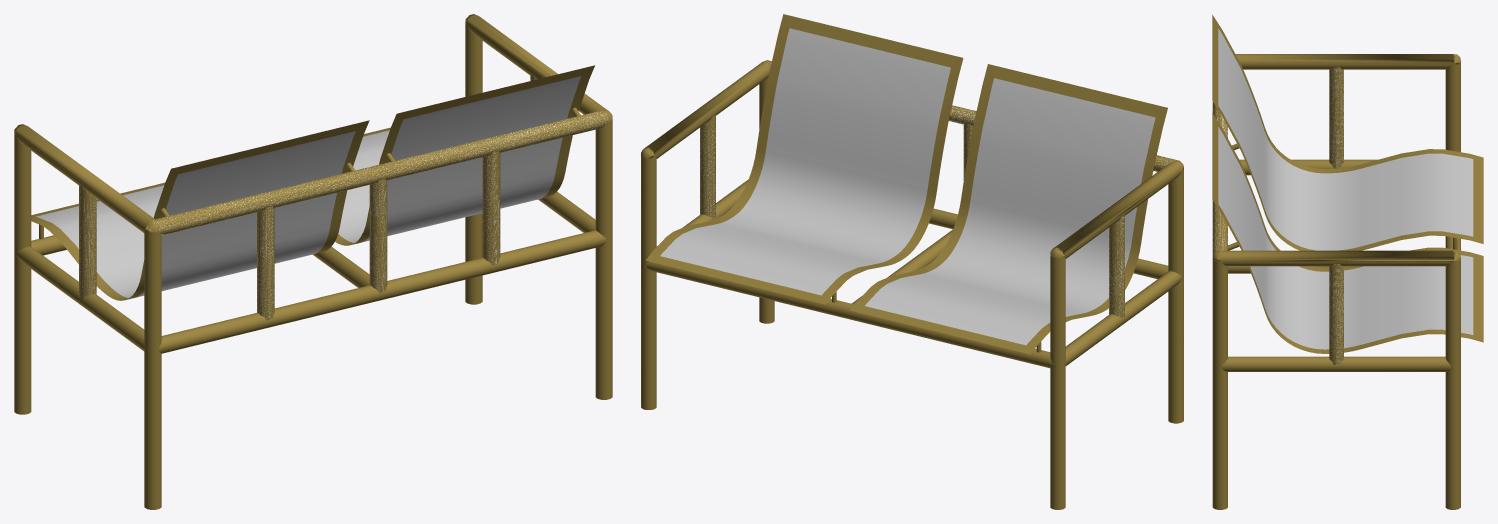
3 renders of one model, left to right at view 1: azimuth 30°, elevation 25°; view 2: azimuth 150°, elevation 25°; view 3: azimuth 270°, elevation 25°, orthographic. The views are drawn at different scales.
Parts seen in each view (by area): view 1: mesh9_mesh9-geometry, mesh1_mesh1-geometry, mesh5_mesh5-geometry, mesh10_mesh10-geometry, mesh6_mesh6-geometry, mesh4_mesh4-geometry, mesh3_mesh3-geometry; view 2: mesh9_mesh9-geometry, mesh1_mesh1-geometry, mesh5_mesh5-geometry, mesh6_mesh6-geometry, mesh4_mesh4-geometry, mesh3_mesh3-geometry, mesh10_mesh10-geometry; view 3: mesh9_mesh9-geometry, mesh1_mesh1-geometry, mesh5_mesh5-geometry, mesh3_mesh3-geometry, mesh4_mesh4-geometry, mesh6_mesh6-geometry, mesh10_mesh10-geometry.
Part boxes in pixels (<box>): mesh9_mesh9-geometry: <box>31,65,594,300</box>; mesh1_mesh1-geometry: <box>14,24,612,509</box>; mesh5_mesh5-geometry: <box>16,191,606,353</box>; mesh10_mesh10-geometry: <box>151,110,608,235</box>; mesh6_mesh6-geometry: <box>79,74,535,320</box>; mesh4_mesh4-geometry: <box>14,124,157,232</box>; mesh3_mesh3-geometry: <box>465,14,612,121</box>; mesh9_mesh9-geometry: <box>646,14,1167,354</box>; mesh1_mesh1-geometry: <box>641,78,1183,509</box>; mesh5_mesh5-geometry: <box>646,179,1181,368</box>; mesh6_mesh6-geometry: <box>700,115,1124,318</box>; mesh4_mesh4-geometry: <box>1050,161,1183,258</box>; mesh3_mesh3-geometry: <box>641,60,769,158</box>; mesh10_mesh10-geometry: <box>767,60,1179,171</box>; mesh9_mesh9-geometry: <box>1212,15,1483,353</box>; mesh1_mesh1-geometry: <box>1212,63,1460,509</box>; mesh5_mesh5-geometry: <box>1222,159,1460,371</box>; mesh3_mesh3-geometry: <box>1212,250,1460,266</box>; mesh4_mesh4-geometry: <box>1235,54,1460,69</box>; mesh6_mesh6-geometry: <box>1329,67,1343,364</box>; mesh10_mesh10-geometry: <box>1212,102,1227,257</box>.
Size of the model in its own units: 0.7456 by 0.5164 by 0.4212.
